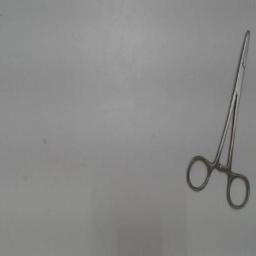Mayo Needle Holder: (183, 24, 253, 214)
